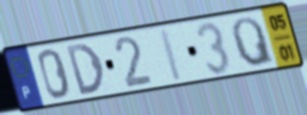0: (37, 46, 72, 102)
2: (113, 34, 155, 91)
3: (196, 17, 234, 78)
D: (64, 41, 107, 98)
I: (157, 27, 186, 84)
Q: (230, 16, 277, 69)
